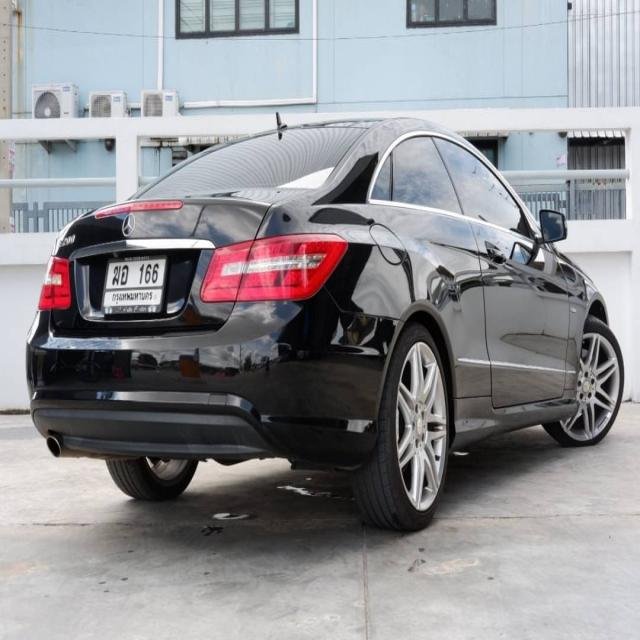license_plate: (99, 253, 166, 316)
